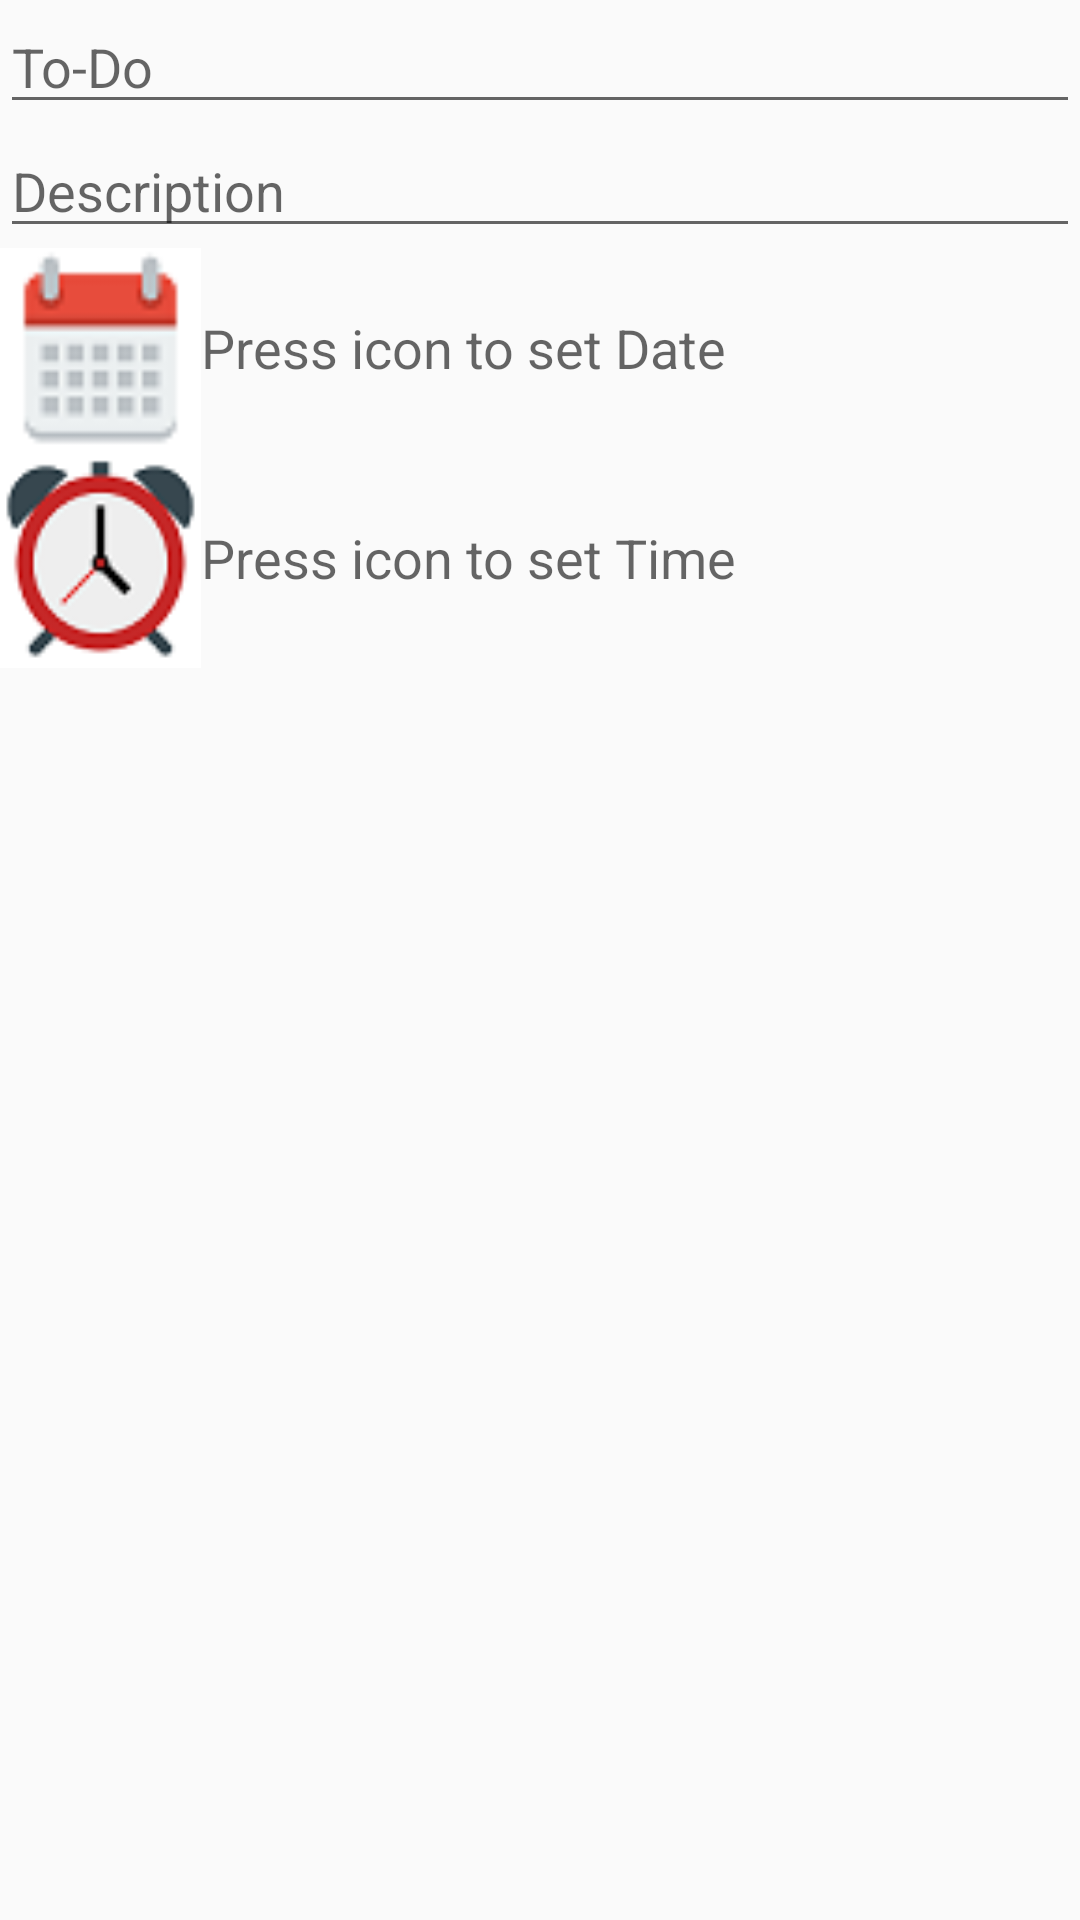

Screen size 1080 × 1920. Icon name, then its center in pixels as (x,y):
calendar: (100,349)
clock: (100,559)
